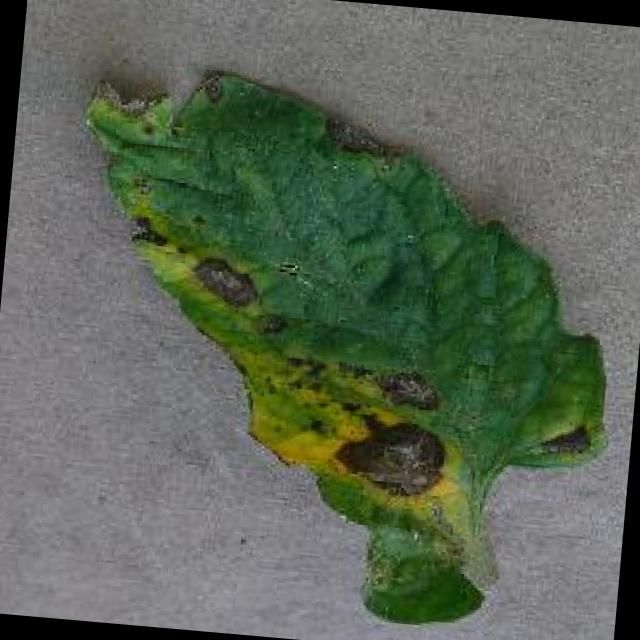Tomato_Early_Blight: (73, 72, 526, 504)
